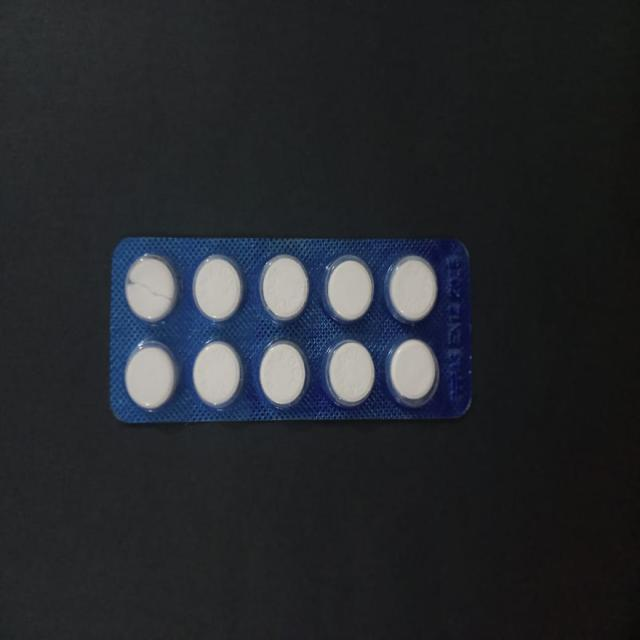defect: (122, 252, 181, 326)
